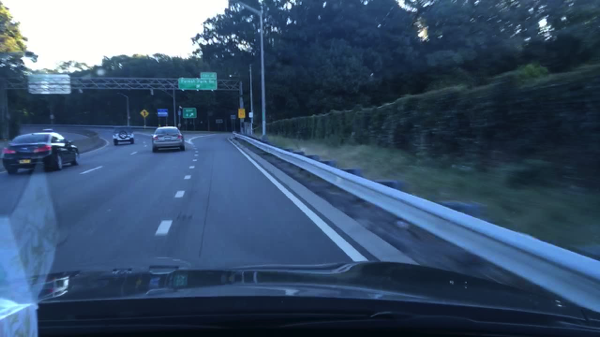car: (3, 132, 80, 175), (152, 127, 185, 153), (113, 127, 134, 146)
traffic sign: (27, 74, 71, 96), (178, 79, 218, 89), (183, 108, 197, 118), (200, 72, 216, 79), (157, 109, 168, 117), (139, 109, 149, 117), (238, 109, 245, 118), (230, 115, 236, 120), (216, 119, 222, 123), (207, 112, 213, 116)
